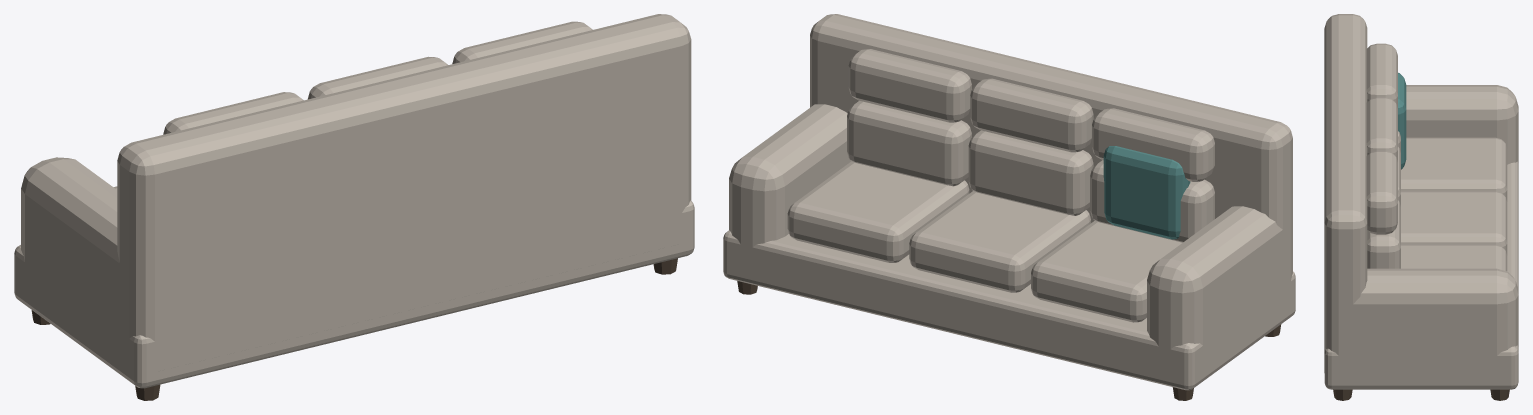
File: sandton-sofa-3.glb
The picture shows the model from 3 angles, left to right: view 1: azimuth 30°, elevation 25°; view 2: azimuth 150°, elevation 25°; view 3: azimuth 270°, elevation 25°; orthographic projection. The views are drawn at different scales.
Visible parts, largest first — view 1: sofa.back, sofa.arm_left, sofa.frame, sofa.back_upper2, sofa.back_upper0, sofa.back_upper1; view 2: sofa.frame, sofa.back, sofa.arm_left, sofa.seat2, sofa.seat1, sofa.arm_right, sofa.seat0, sofa.back_lower1, sofa.back_lower2, sofa.back_upper2, sofa.back_upper1, sofa.cushion0 (+2 smaller); view 3: sofa.back, sofa.arm_right, sofa.frame, sofa.arm_left, sofa.seat1, sofa.seat0, sofa.seat2, sofa.back_upper2, sofa.back_upper0, sofa.back_upper1, sofa.back_lower2, sofa.cushion0 (+2 smaller).
Part boxes in pixels (bbox=[...]): sofa.back: bbox=[117, 14, 691, 371]; sofa.arm_left: bbox=[21, 157, 124, 356]; sofa.frame: bbox=[14, 200, 694, 388]; sofa.back_upper2: bbox=[452, 21, 592, 63]; sofa.back_upper0: bbox=[163, 92, 303, 134]; sofa.back_upper1: bbox=[307, 56, 448, 99]; sofa.frame: bbox=[723, 230, 1295, 390]; sofa.back: bbox=[810, 14, 1292, 285]; sofa.arm_left: bbox=[1147, 206, 1284, 367]; sofa.seat2: bbox=[787, 161, 969, 262]; sofa.seat1: bbox=[909, 191, 1090, 292]; sofa.arm_right: bbox=[729, 104, 851, 265]; sofa.seat0: bbox=[1031, 221, 1182, 322]; sofa.back_lower1: bbox=[968, 130, 1093, 215]; sofa.back_lower2: bbox=[847, 100, 971, 186]; sofa.back_upper2: bbox=[848, 49, 971, 122]; sofa.back_upper1: bbox=[970, 78, 1093, 152]; sofa.cushion0: bbox=[1103, 146, 1190, 239]; sofa.back: bbox=[1324, 14, 1367, 378]; sofa.arm_right: bbox=[1353, 268, 1518, 355]; sofa.frame: bbox=[1324, 161, 1518, 389]; sofa.arm_left: bbox=[1406, 85, 1518, 164]; sofa.seat1: bbox=[1401, 191, 1507, 255]; sofa.seat0: bbox=[1401, 137, 1507, 201]; sofa.seat2: bbox=[1401, 244, 1507, 271]; sofa.back_upper2: bbox=[1366, 150, 1397, 234]; sofa.back_upper0: bbox=[1366, 43, 1397, 108]; sofa.back_upper1: bbox=[1366, 97, 1397, 161]; sofa.back_lower2: bbox=[1367, 200, 1400, 268]; sofa.cushion0: bbox=[1398, 72, 1406, 169].
Size of the model in its own units: 2.4 by 1.02 by 0.9501.
